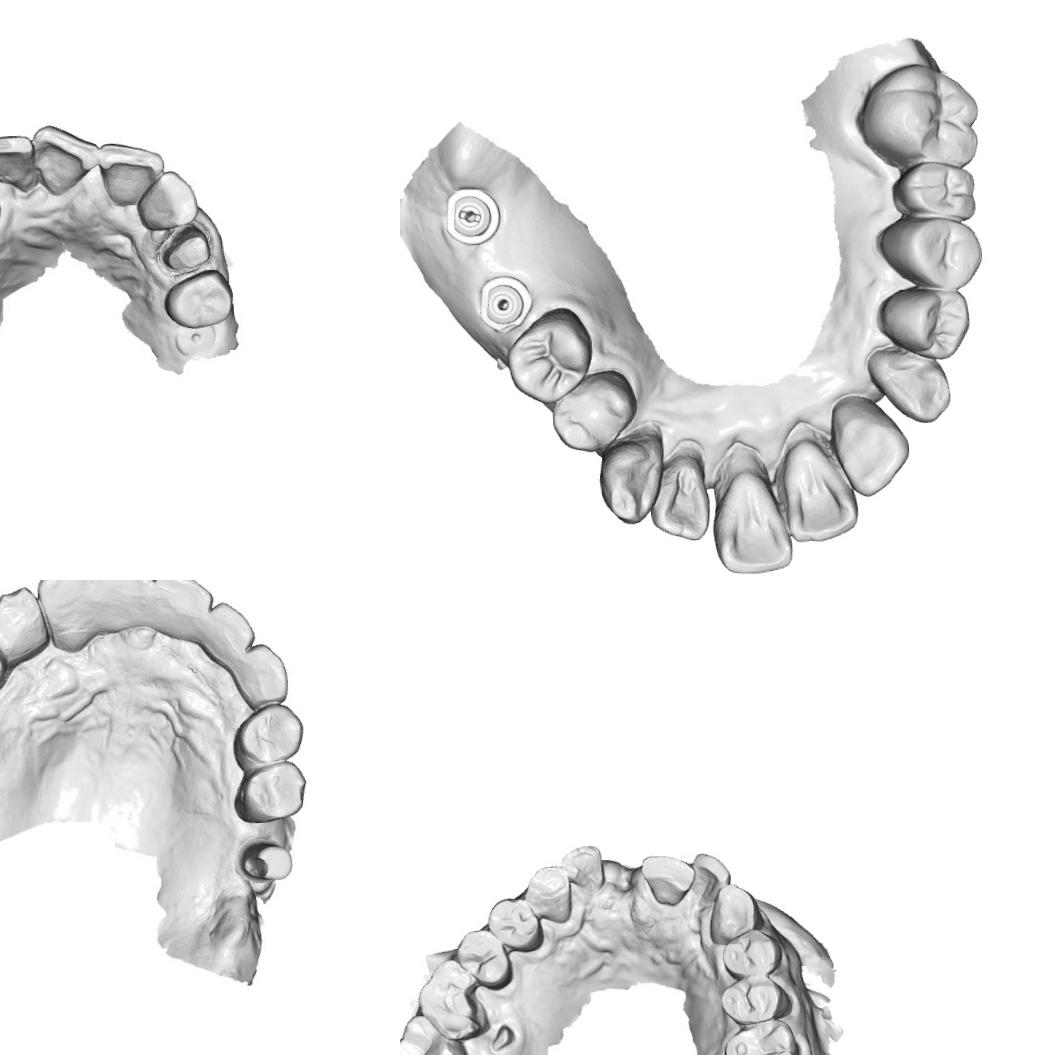abutment: (232, 836, 292, 888)
canine: (869, 346, 953, 429), (595, 431, 664, 526), (0, 588, 48, 666), (232, 642, 288, 708), (705, 880, 759, 945), (523, 863, 574, 926)
crown: (160, 225, 212, 274)
implant: (474, 278, 530, 324), (168, 324, 222, 358)
implant_minus: (437, 189, 498, 247)
incisor: (712, 471, 797, 578), (834, 396, 912, 502), (783, 444, 859, 546), (648, 456, 716, 543), (31, 122, 101, 192), (97, 136, 165, 206), (139, 164, 198, 238), (194, 601, 254, 661), (36, 580, 100, 634), (154, 580, 213, 637), (640, 850, 696, 908), (559, 842, 608, 898), (94, 580, 157, 623), (688, 849, 732, 908), (0, 132, 38, 194)
molar: (855, 58, 986, 170), (412, 954, 488, 1043), (888, 161, 978, 223), (400, 1010, 471, 1055), (719, 1018, 801, 1055)
premolar: (502, 310, 594, 407), (876, 212, 986, 293), (877, 278, 972, 361), (544, 370, 636, 455), (162, 265, 238, 328), (237, 762, 311, 824), (452, 926, 514, 993), (716, 972, 792, 1026), (233, 705, 300, 763), (718, 926, 784, 984), (484, 894, 543, 955)
